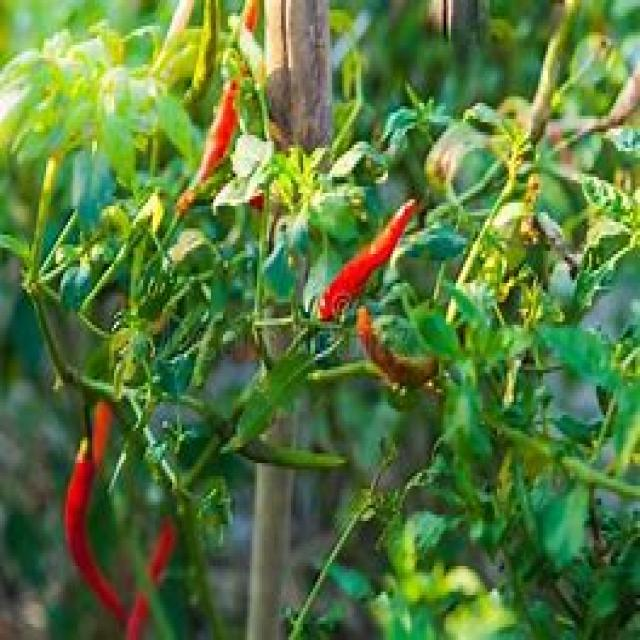Mosaic_virus: (9, 4, 640, 598)
